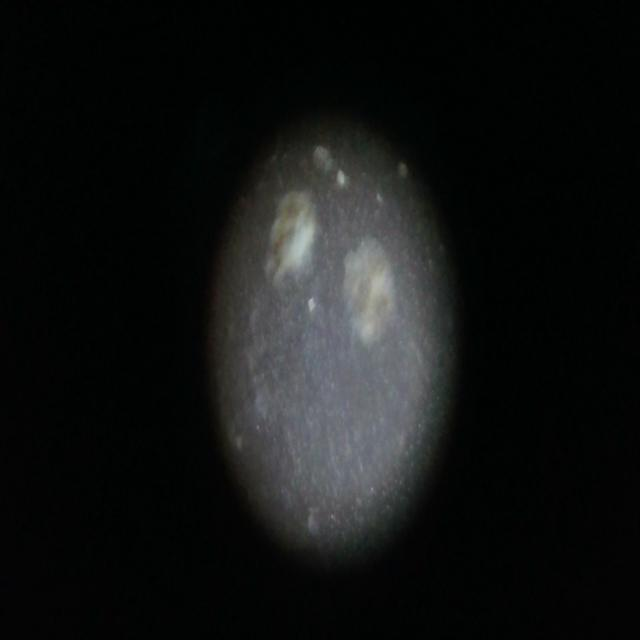alexandrium: (255, 162, 328, 310), (336, 210, 408, 352)
